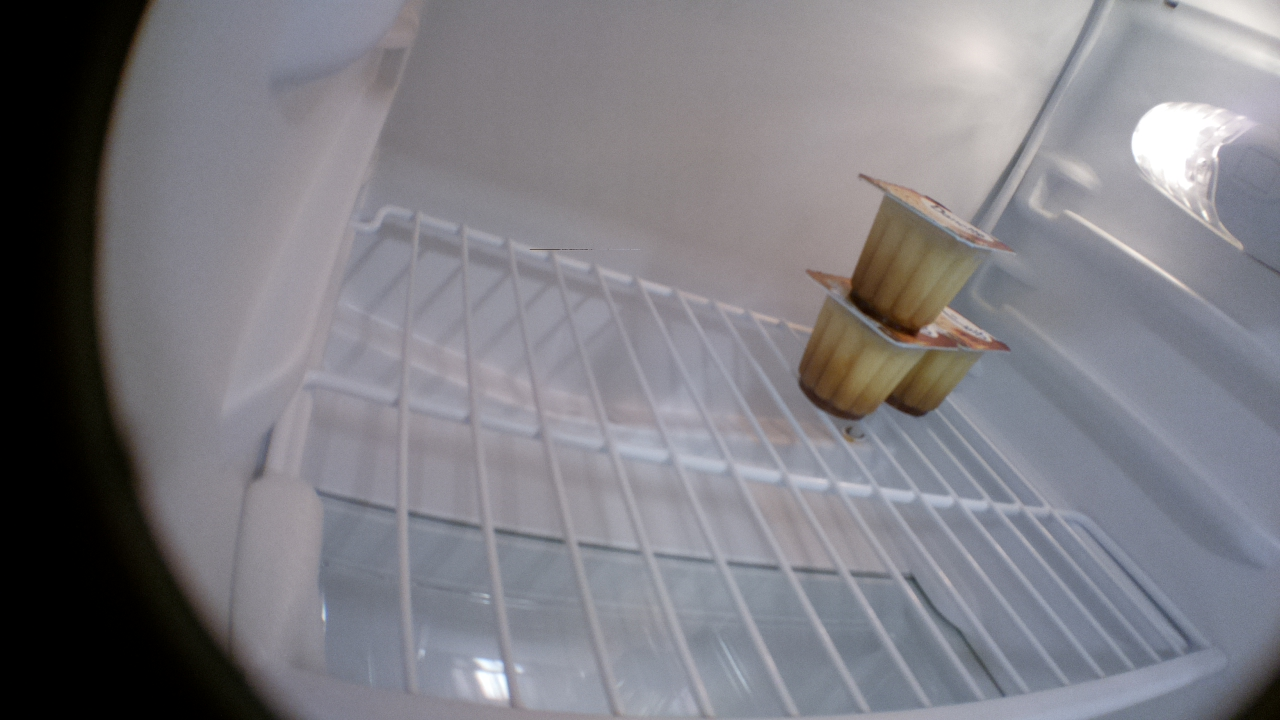caramel: (852, 174, 1018, 332), (797, 265, 961, 419), (884, 297, 1009, 424)
